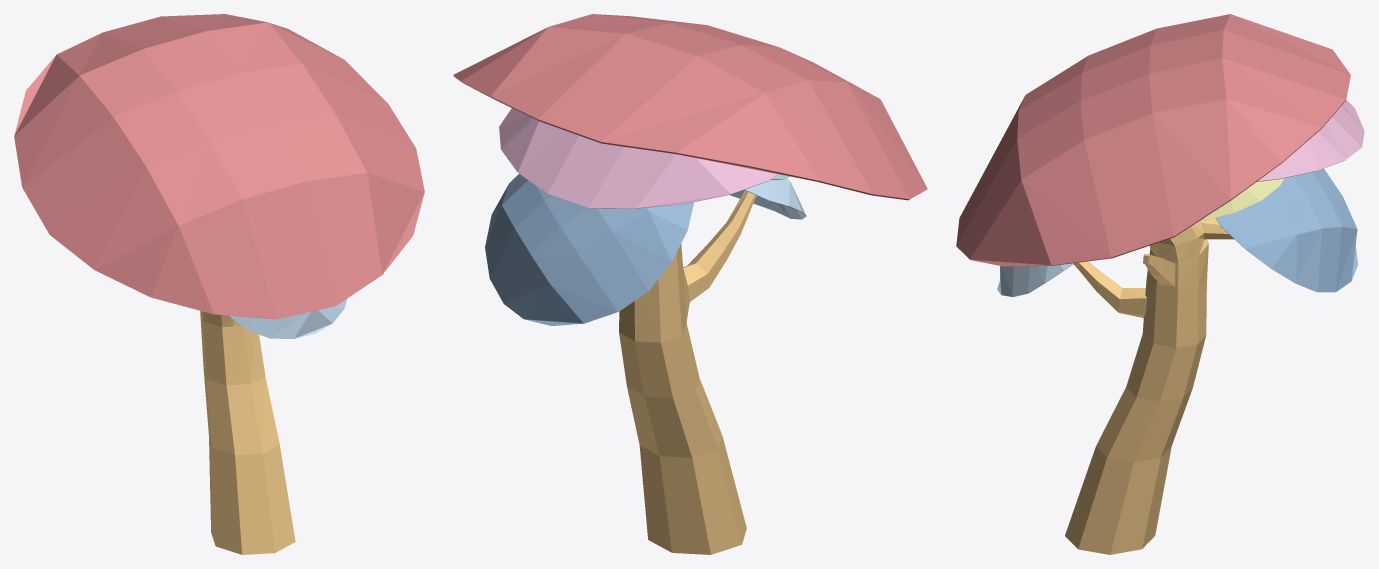
File: 92220_assembly.glb
3 renders of one model, left to right at view 1: azimuth 30°, elevation 25°; view 2: azimuth 150°, elevation 25°; view 3: azimuth 270°, elevation 25°, orthographic. The views are drawn at different scales.
Visible parts, largest first — view 1: part_00, part_02, part_06; view 2: part_00, part_02, part_07, part_03, part_06; view 3: part_00, part_02, part_07, part_03, part_06, part_04.
Part boxes in pixels (x1=…): part_00: x1=14, y1=14, x2=424, y2=319; part_02: x1=200, y1=311, x2=295, y2=554; part_06: x1=229, y1=298, x2=347, y2=338; part_00: x1=453, y1=14, x2=927, y2=200; part_02: x1=619, y1=190, x2=756, y2=554; part_07: x1=485, y1=174, x2=694, y2=325; part_03: x1=499, y1=108, x2=777, y2=208; part_06: x1=730, y1=178, x2=806, y2=219; part_00: x1=956, y1=14, x2=1350, y2=266; part_02: x1=1065, y1=218, x2=1233, y2=554; part_07: x1=1216, y1=168, x2=1358, y2=292; part_03: x1=1257, y1=100, x2=1364, y2=181; part_06: x1=997, y1=263, x2=1074, y2=296; part_04: x1=1199, y1=178, x2=1283, y2=221.
Bounding box in the file's own units: 0.9144 × 1.13 × 0.8711.
